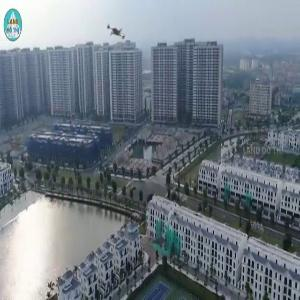drone: (96, 14, 138, 56)
